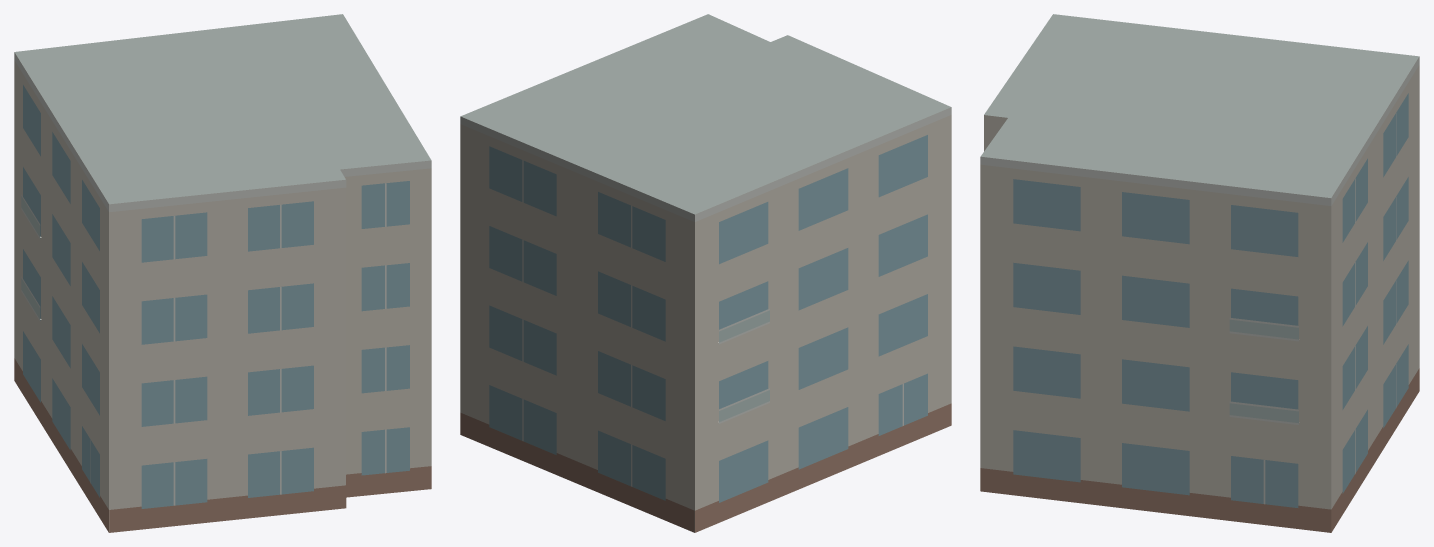
The model's file is survey-upis-32916220.glb.
3 views of the same model, side by side, from view 1: azimuth 30°, elevation 25°; view 2: azimuth 150°, elevation 25°; view 3: azimuth 270°, elevation 25° (orthographic). The views are drawn at different scales.
Visible parts, largest first — view 1: survey-upis-32916220.tmp; view 2: survey-upis-32916220.tmp; view 3: survey-upis-32916220.tmp.
Part boxes in pixels (x1,y1,x2,y2): survey-upis-32916220.tmp: [14, 14, 431, 532]; survey-upis-32916220.tmp: [460, 14, 951, 532]; survey-upis-32916220.tmp: [980, 14, 1419, 532].
Bounding box in the file's own units: 12.05 × 10.2 × 12.14.
